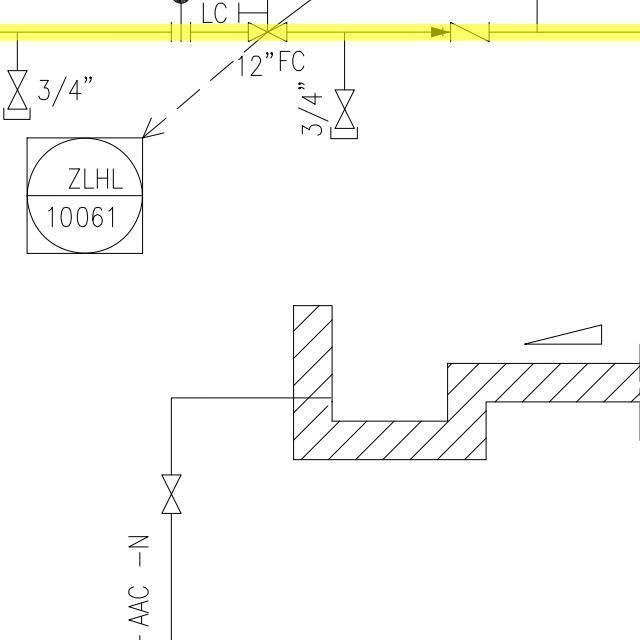EC: (322, 67, 366, 146), (1, 42, 35, 126)
GV: (158, 469, 185, 520), (332, 82, 355, 134), (5, 68, 28, 115)
